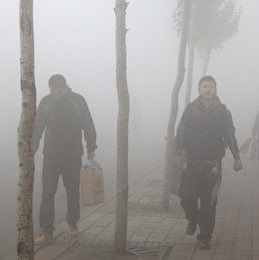person: (31, 71, 105, 244), (173, 75, 244, 249)
